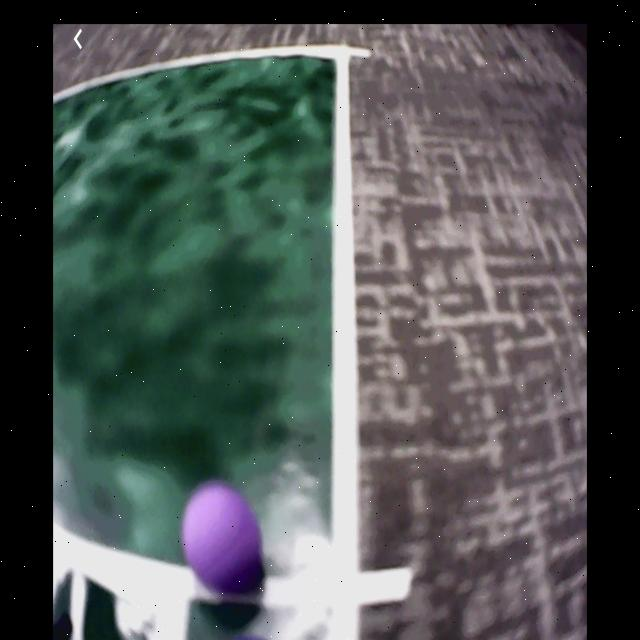ball: (184, 484, 261, 591)
